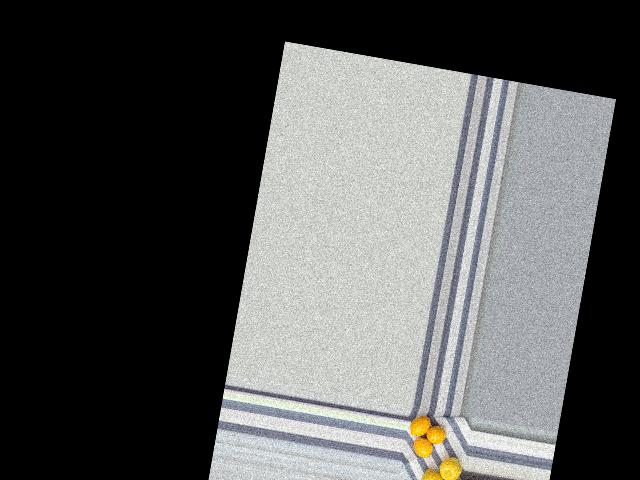lemon: (408, 414, 431, 438)
